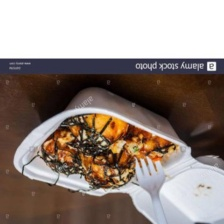foam_box: (9, 82, 224, 224)
